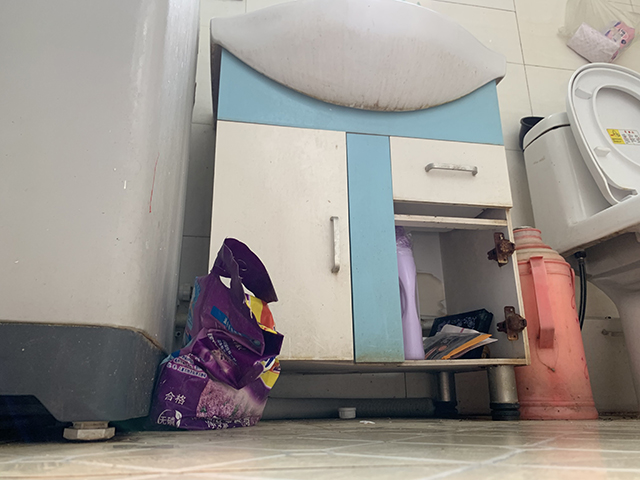cabinet: (200, 1, 533, 421)
closestool: (518, 61, 640, 417)
